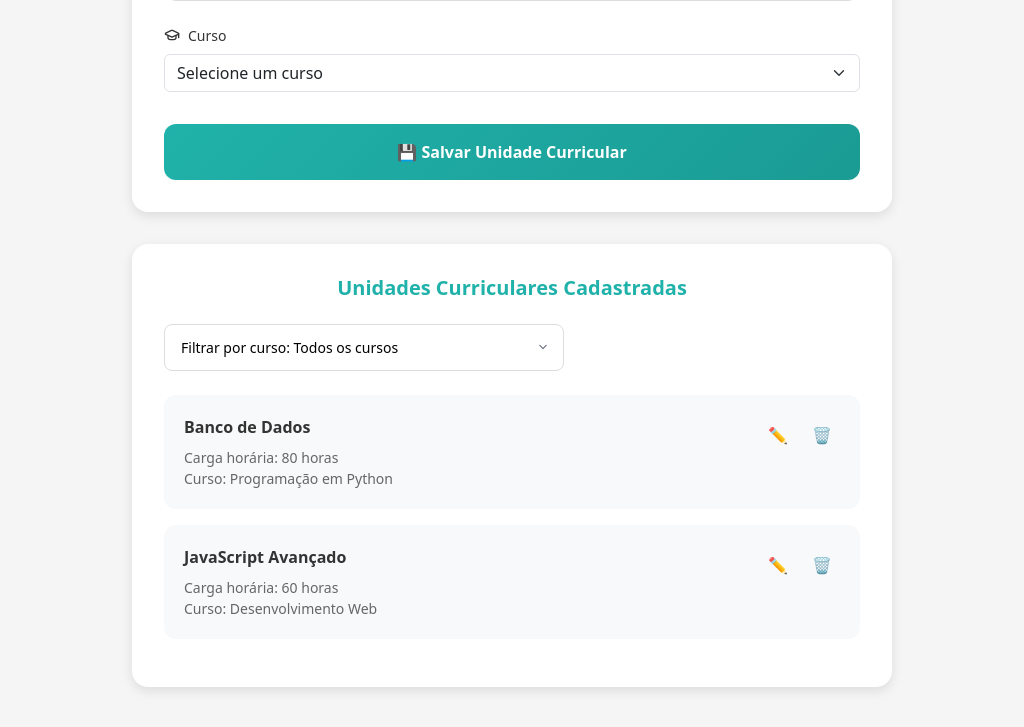
Scenario: UcsRegistrationPage › cancela exclusão ao clicar em cancelar
(page scrolled)
Click the button titled "Excluir" in the row of "Banco de Dados" at {"x": 822, "y": 435}, box [804, 415, 840, 455]
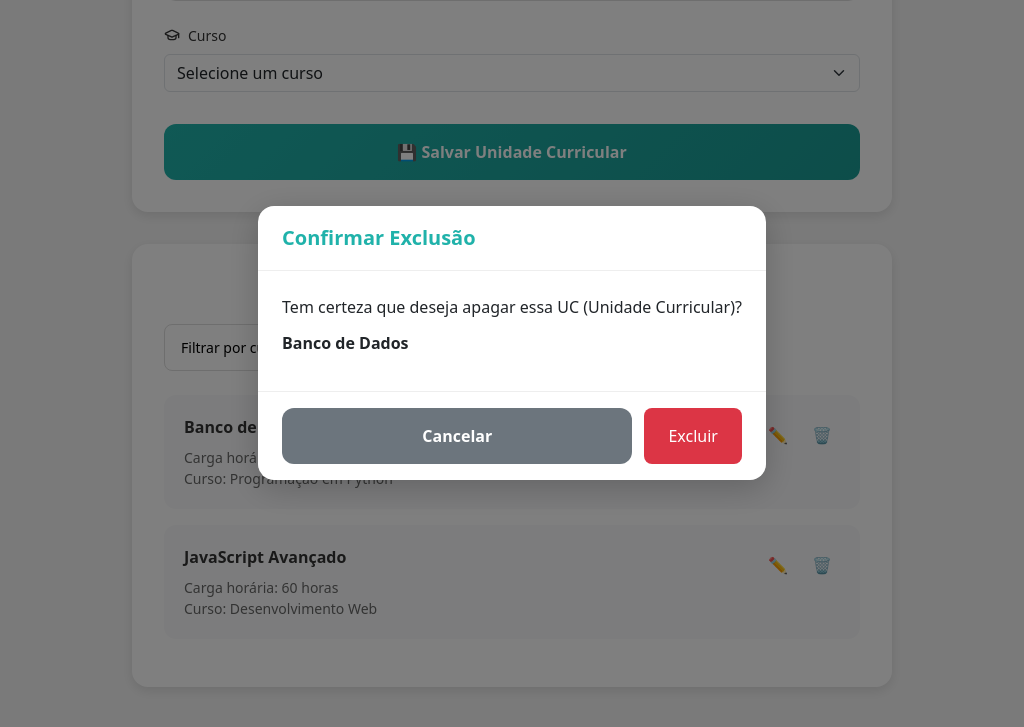
Click the button "Cancelar" at {"x": 457, "y": 436}, box [282, 408, 632, 464]
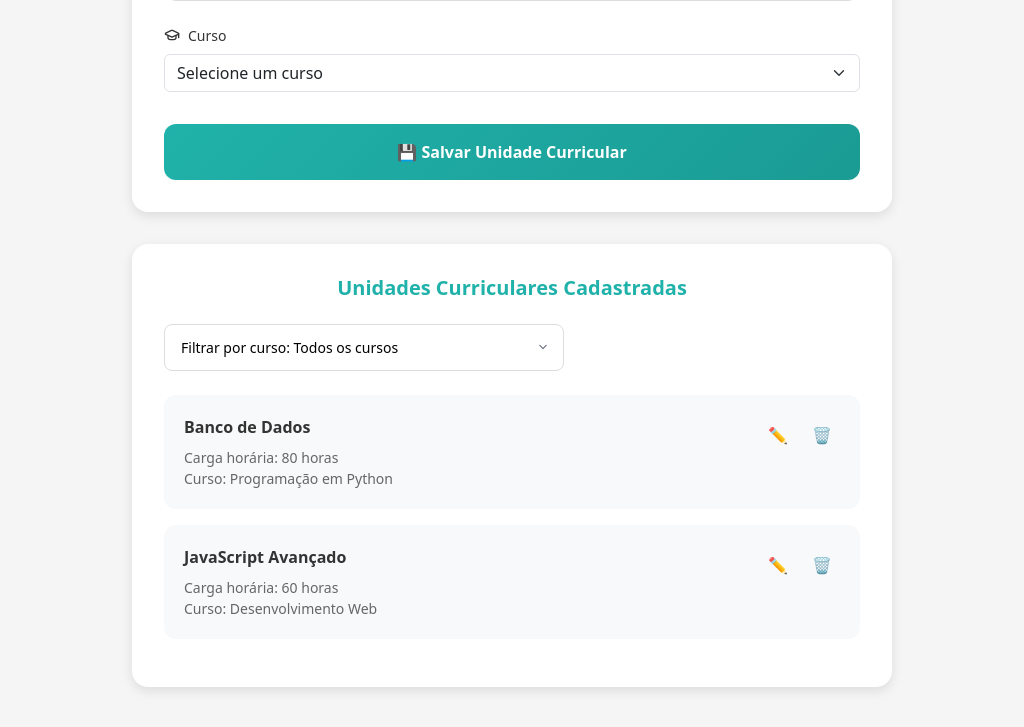
Check: the heading "Confirmar Exclusão" is gone
